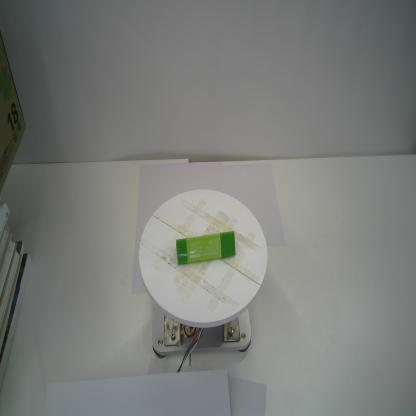Stationery: (176, 231, 236, 264)
